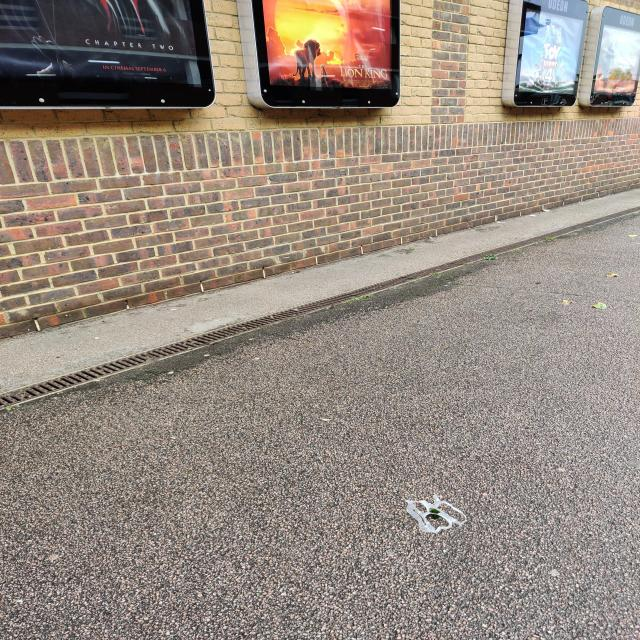litter: (403, 496, 470, 532)
